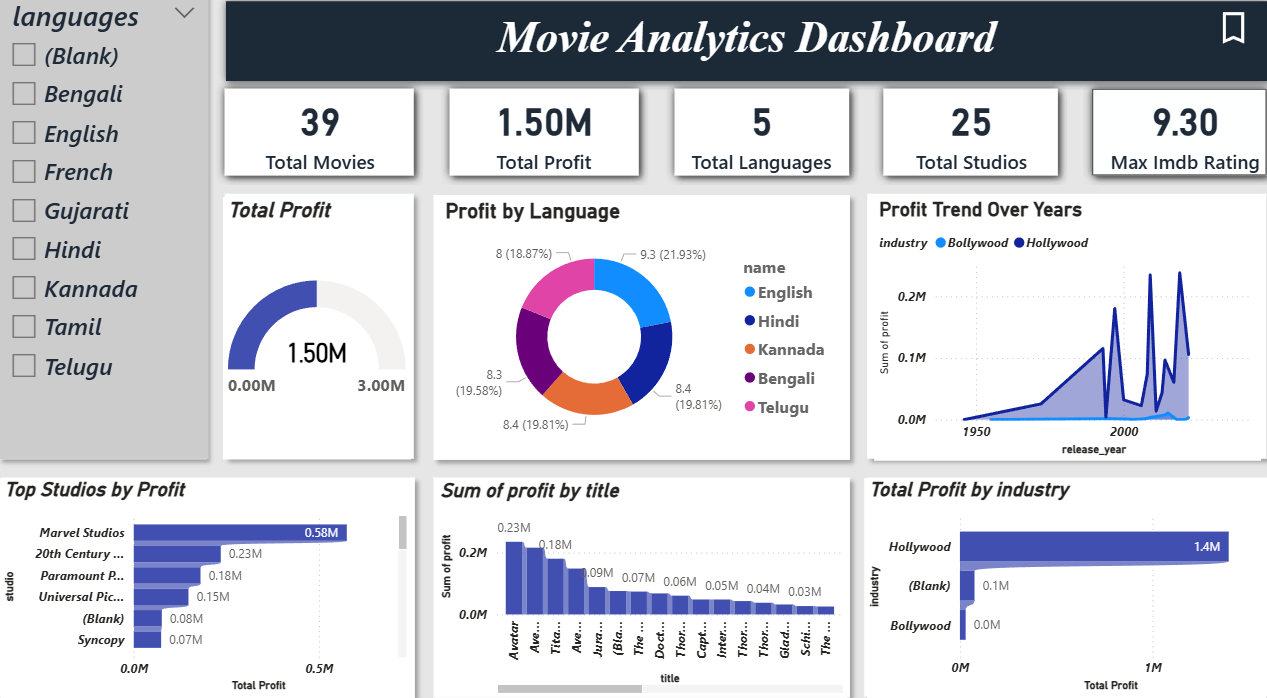

What the dashboard file says about the page in this screenshot:
{"tool":"powerbi","page":{"name":"Page 2","canvas":[1280,720],"ordinal":0},"visuals":[{"type":"shape","box":[233.3,9.6,1037.4,96.1],"z":0},{"type":"shape","box":[11.4,0,221.4,475.7],"z":1000},{"type":"shape","box":[12.9,475.7,422.9,234.3],"z":2000},{"type":"shape","box":[436.4,199,425.4,277.2],"z":3000},{"type":"shape","box":[436.4,476.2,425.4,233.3],"z":4000},{"type":"shape","box":[861.4,475.7,408.6,234.3],"z":5000},{"type":"shape","box":[861.4,198.6,408.6,277.1],"z":6000},{"type":"shape","box":[1081.4,95.7,188.6,102.9],"z":7000},{"type":"shape","box":[877.1,95.7,188.6,102.9],"z":8000},{"type":"shape","box":[672.9,95.7,188.6,102.9],"z":9000},{"type":"shape","box":[232.9,95.7,202.9,102.9],"z":10000},{"type":"shape","box":[452.9,95.7,202.9,102.9],"z":11000},{"type":"shape","box":[232.9,198.6,202.9,277.1],"z":12000},{"type":"textbox","box":[247,24.7,1008.6,71.4],"z":13000},{"type":"slicer","fields":{"Values":["languages.name"]},"box":[20.6,9.6,204.5,456.9],"z":14000},{"type":"card","fields":{"Values":["actors.No_of_Movies"]},"box":[245.6,94.7,178.4,104.3],"z":15000},{"type":"card","fields":{"Values":["actors.Max_Imdb_Rating"]},"box":[1092.3,94.7,178.4,104.3],"z":16000},{"type":"card","fields":{"Values":["movies.Total_no_of_studio"]},"box":[882.3,94.7,178.4,104.3],"z":17000},{"type":"card","fields":{"Values":["movies.Total_no_of_languages"]},"box":[677.9,94.7,178.4,104.3],"z":18000},{"type":"card","fields":{"Values":["financials.total profit"]},"box":[465.2,94.7,178.4,104.3],"z":19000},{"type":"barChart","fields":{"Category":["movies.industry"],"Y":["financials.Total Profit"]},"box":[867,485.5,403.5,214],"z":20000},{"type":"lineChart","title":"Profit Trend Over Years","fields":{"Y":["Sum(financials.profit)"],"Category":["movies.release_year"],"Series":["movies.industry"]},"box":[876.8,211.3,378.7,256.6],"z":21000},{"type":"gauge","fields":{"Y":["financials.Total Profit"]},"box":[240.1,209.9,183.9,256.6],"z":22000},{"type":"donutChart","title":"Profit by Language","fields":{"Y":["actors.Max Imdb Rating"],"Category":["languages.name"]},"box":[452.4,211.6,390.1,245.8],"z":23000},{"type":"barChart","title":"Top Studios by Profit","fields":{"Category":["movies.studio"],"Y":["financials.Total Profit"]},"box":[20.6,485.8,403.4,214.1],"z":24000},{"type":"columnChart","fields":{"Y":["Sum(financials.profit)"],"Category":["movies.title"]},"box":[447.6,486.7,403.5,214],"z":25000},{"type":"actionButton","box":[1208.2,24.5,47.7,40.4],"z":26000}]}

Visuals, with their boxes in screenshot pixels (x1, y1, x2, y2), scaled from the page's 1280x720 canvas onto the 1267x698 screenshot:
shape: <bbox>231, 9, 1258, 102</bbox>
shape: <bbox>11, 0, 230, 461</bbox>
shape: <bbox>13, 461, 431, 688</bbox>
shape: <bbox>432, 193, 853, 462</bbox>
shape: <bbox>432, 462, 853, 688</bbox>
shape: <bbox>853, 461, 1257, 688</bbox>
shape: <bbox>853, 193, 1257, 461</bbox>
shape: <bbox>1070, 93, 1257, 193</bbox>
shape: <bbox>868, 93, 1055, 193</bbox>
shape: <bbox>666, 93, 853, 193</bbox>
shape: <bbox>231, 93, 431, 193</bbox>
shape: <bbox>448, 93, 649, 193</bbox>
shape: <bbox>231, 193, 431, 461</bbox>
textbox: <bbox>244, 24, 1243, 93</bbox>
slicer - languages.name: <bbox>20, 9, 223, 452</bbox>
card - actors.No_of_Movies: <bbox>243, 92, 420, 193</bbox>
card - actors.Max_Imdb_Rating: <bbox>1081, 92, 1258, 193</bbox>
card - movies.Total_no_of_studio: <bbox>873, 92, 1050, 193</bbox>
card - movies.Total_no_of_languages: <bbox>671, 92, 848, 193</bbox>
card - financials.total profit: <bbox>460, 92, 637, 193</bbox>
barChart - movies.industry x financials.Total Profit: <bbox>858, 471, 1258, 678</bbox>
"Profit Trend Over Years" lineChart: <bbox>868, 205, 1243, 454</bbox>
gauge - financials.Total Profit: <bbox>238, 203, 420, 452</bbox>
"Profit by Language" donutChart: <bbox>448, 205, 834, 443</bbox>
"Top Studios by Profit" barChart: <bbox>20, 471, 420, 679</bbox>
columnChart - Sum(financials.profit) x movies.title: <bbox>443, 472, 842, 679</bbox>
actionButton: <bbox>1196, 24, 1243, 63</bbox>
